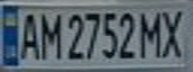2: (115, 8, 139, 60), (63, 9, 84, 61)
5: (100, 8, 121, 60)
7: (81, 8, 103, 61)
A: (15, 9, 42, 61)
M: (136, 7, 166, 58), (36, 9, 63, 61)
X: (157, 6, 190, 60)
